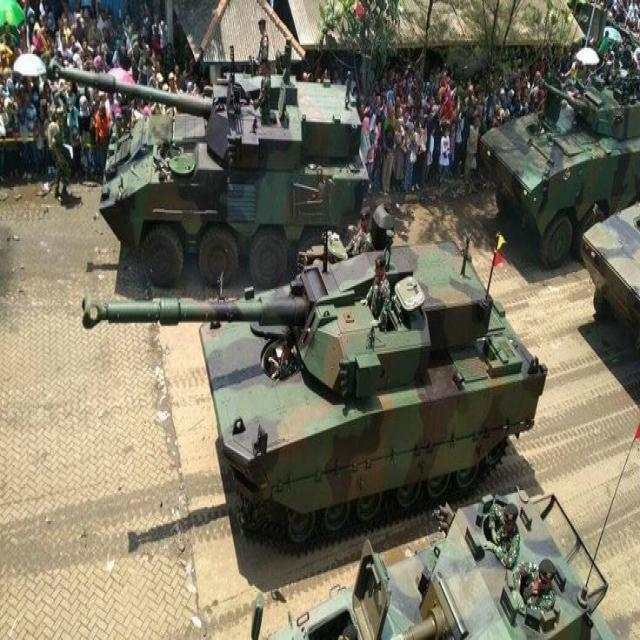MIL_MBT: (64, 229, 550, 555), (48, 27, 368, 295)
